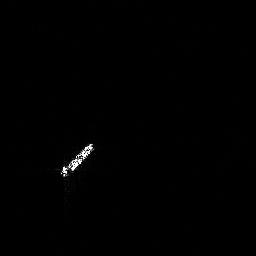ship: (56, 139, 98, 180)
